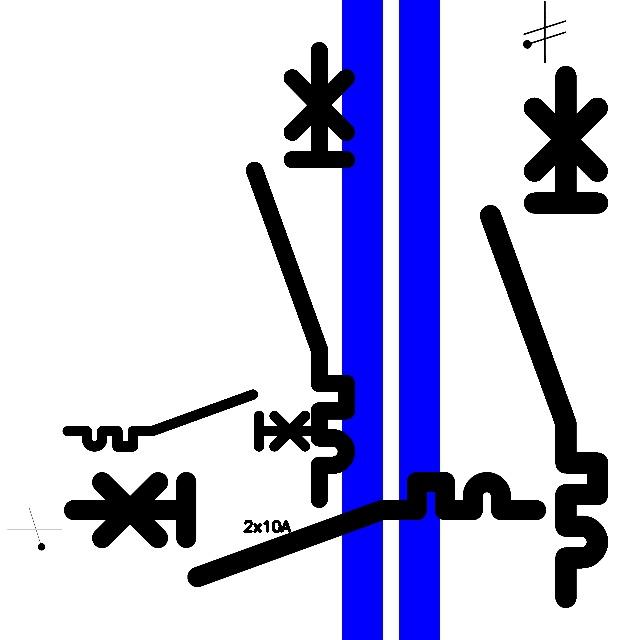interruptor_termomagnetico: (477, 62, 611, 610), (61, 470, 547, 589), (243, 39, 358, 511), (61, 388, 326, 453)
